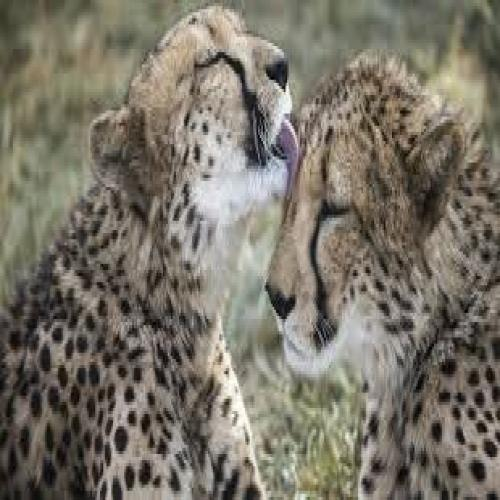cheetah-endangered: (0, 8, 287, 500), (257, 63, 500, 500)
